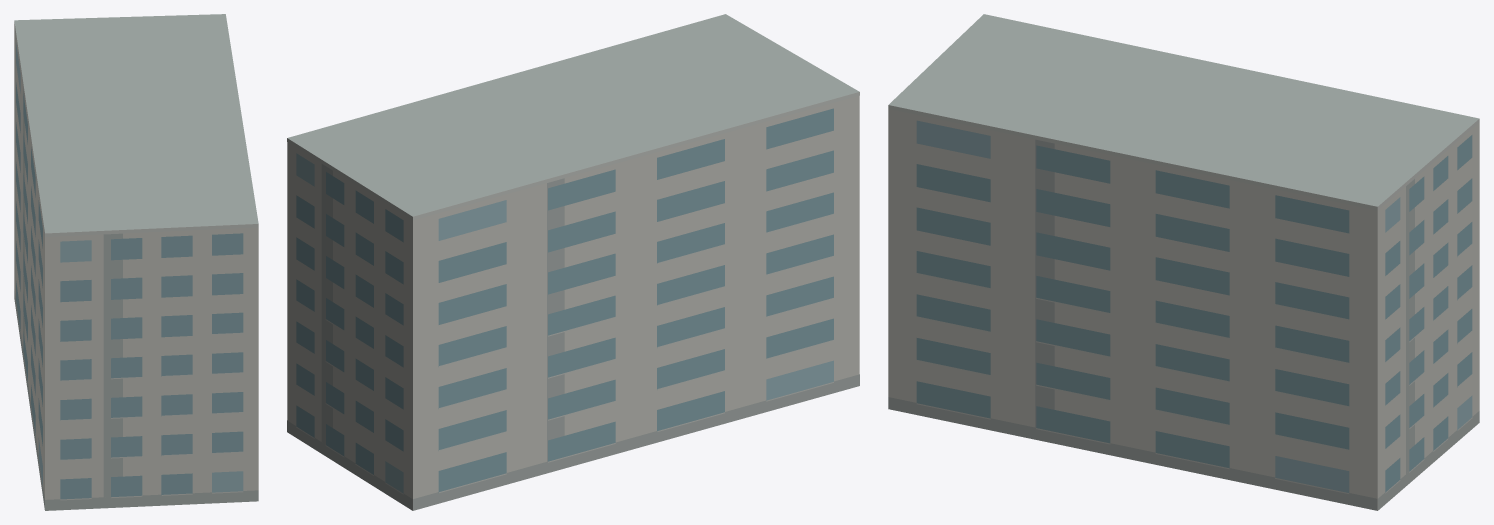
Rendered from survey-upis-32552886.glb.
3 renders of one model, left to right at view 1: azimuth 30°, elevation 25°; view 2: azimuth 150°, elevation 25°; view 3: azimuth 270°, elevation 25°, orthographic. The views are drawn at different scales.
Parts seen in each view (by area): view 1: survey-upis-32552886.tmp; view 2: survey-upis-32552886.tmp; view 3: survey-upis-32552886.tmp.
Boxes of the visible parts, left/top/right/bottom form: survey-upis-32552886.tmp: left=14, top=14, right=258, bottom=510; survey-upis-32552886.tmp: left=287, top=14, right=859, bottom=510; survey-upis-32552886.tmp: left=888, top=14, right=1479, bottom=510.
Size of the model in its own units: 25.16 by 18.5 by 32.61.
